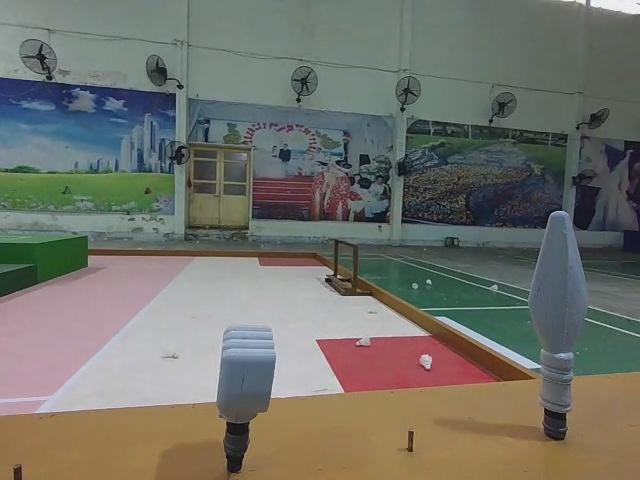Fist: (218, 317, 279, 476)
Hand: (218, 317, 279, 476)
Sph: (524, 207, 592, 447)
